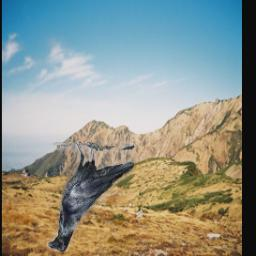Crow: (48, 143, 135, 253)
